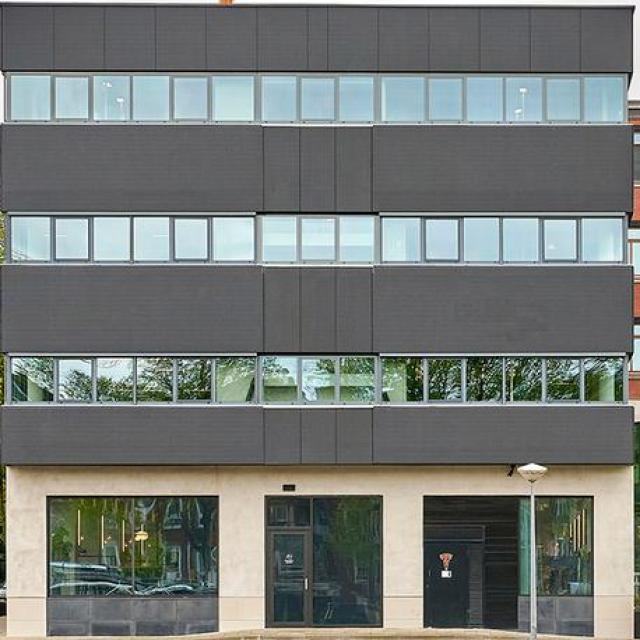door: (422, 495, 516, 628), (264, 528, 314, 628)
wall: (0, 0, 635, 639)
windows: (2, 72, 628, 124), (4, 210, 626, 261), (7, 353, 628, 403), (46, 496, 220, 638), (264, 492, 386, 628), (518, 499, 592, 599)
